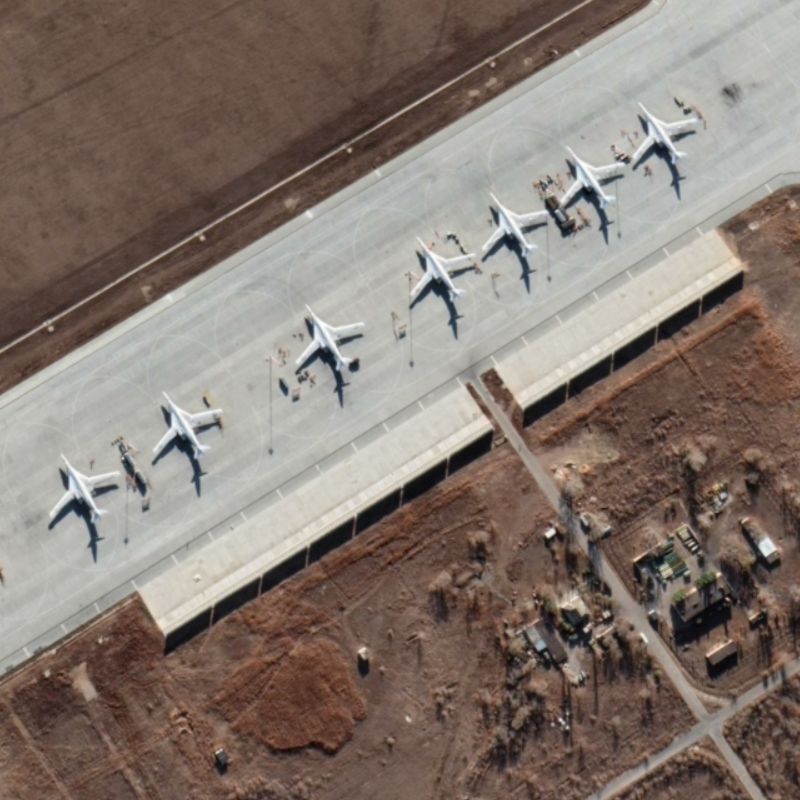A6: (45, 449, 123, 529), (147, 388, 226, 464), (289, 300, 368, 374), (405, 232, 478, 307), (628, 95, 700, 170), (559, 140, 630, 212), (479, 189, 550, 261)
